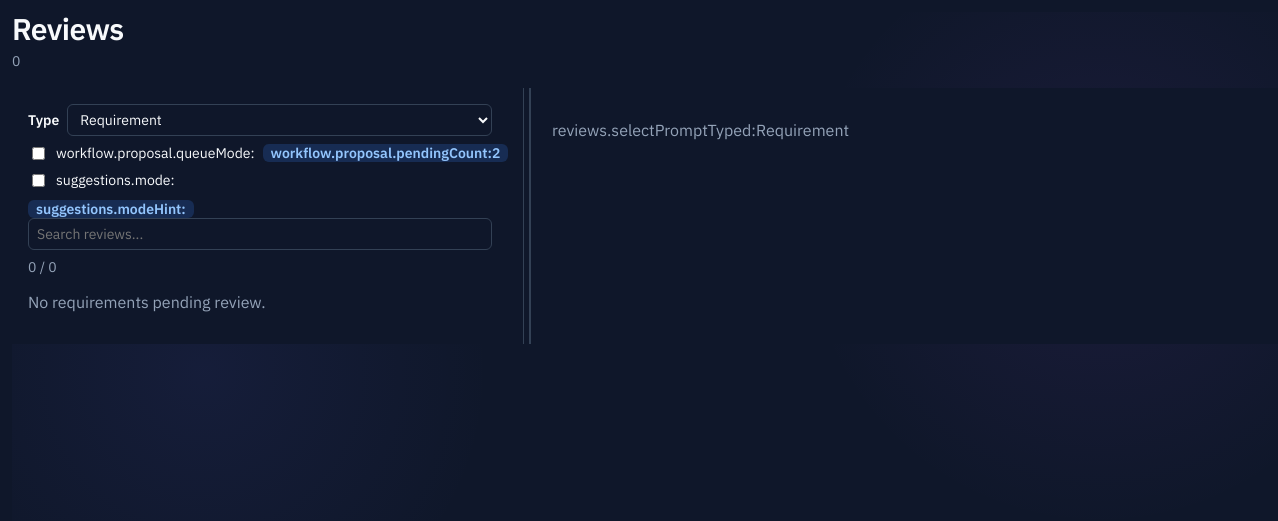
Test: ReviewsView — AI proposals queue (#1089) › names the proposer in the detail pane
What coordinates should you click on to do the following:
click the checkbox with test id "reviews-queue-mode-checkbox"
I would click on:
 (38, 153)
Its box is [32,146,45,160].
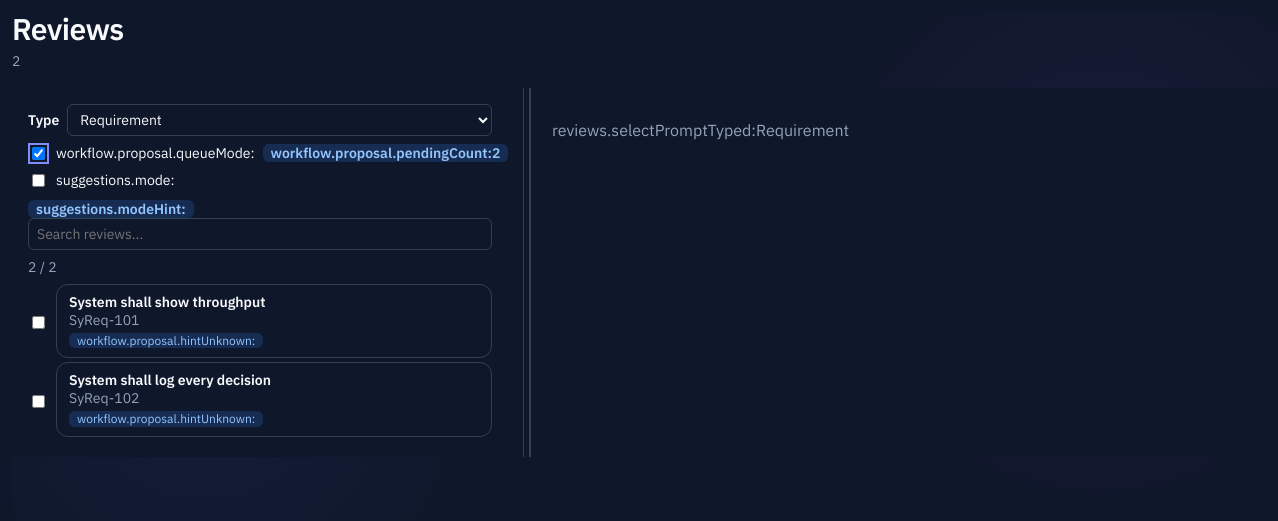
What coordinates should you click on to do the following:
click the button with test id "review-list-item-req-prop-1"
I would click on:
 (167, 302)
Its box is [56,284,492,358].
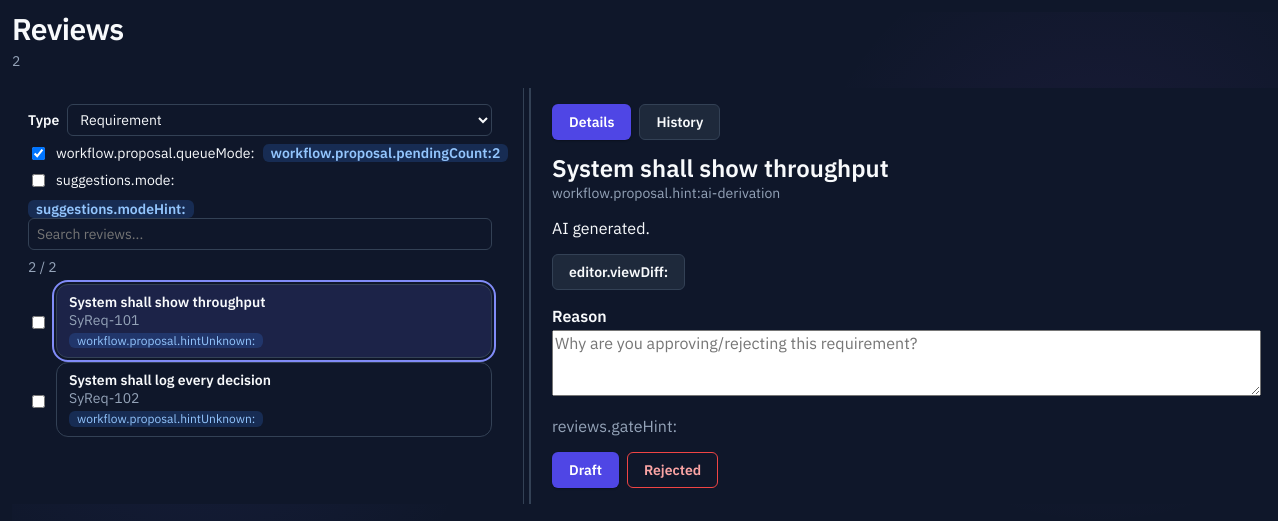
Result: the text with test id "review-proposal-origin" shows "workflow.proposal.hint" at [552,184,780,202]
Result: the text with test id "review-proposal-origin" shows "ai-derivation" at [552,184,780,202]
